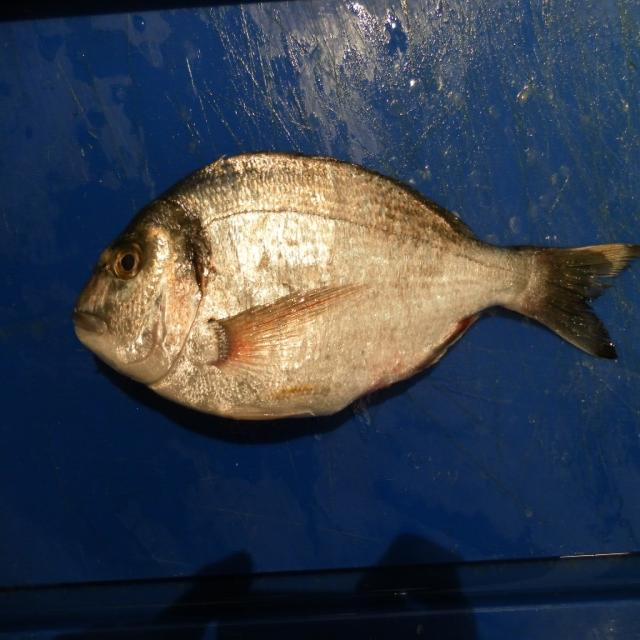Gilt-Head-Bream-c-ipura-: (71, 153, 639, 432)
